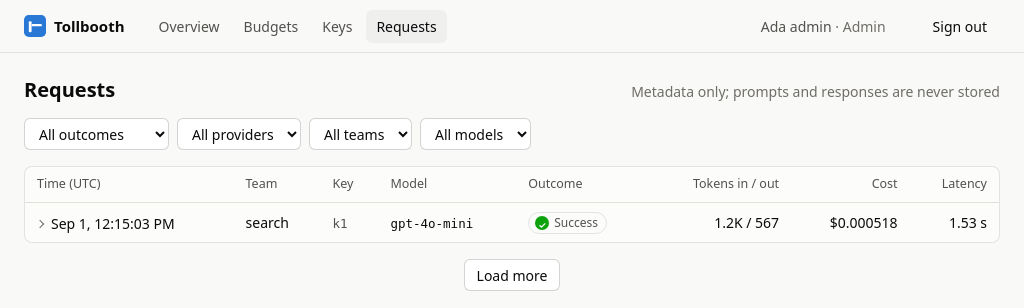
Test case: requests page › pages with the cursor
Click the button "Load more".
click(512, 275)  # box 464,259 -> 560,291
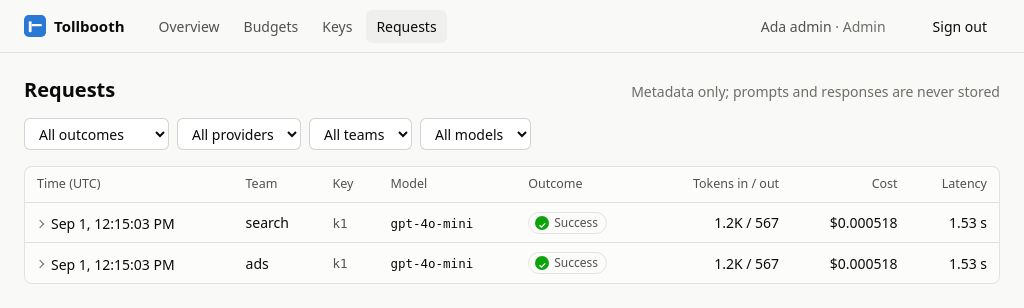
Check: the text "ads" is shown, box 234,243 -> 320,283
Check: the button "Load more" is gone
